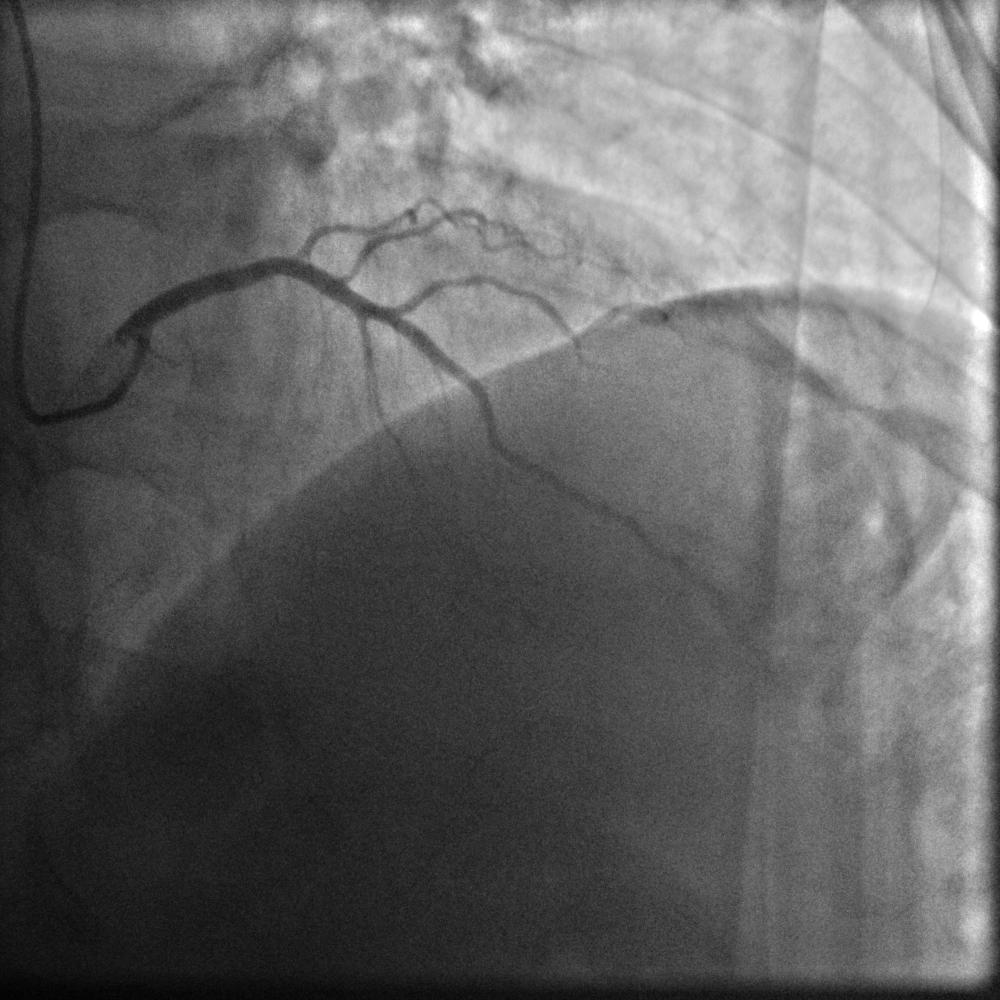Stenosis: (295, 237, 366, 288)
